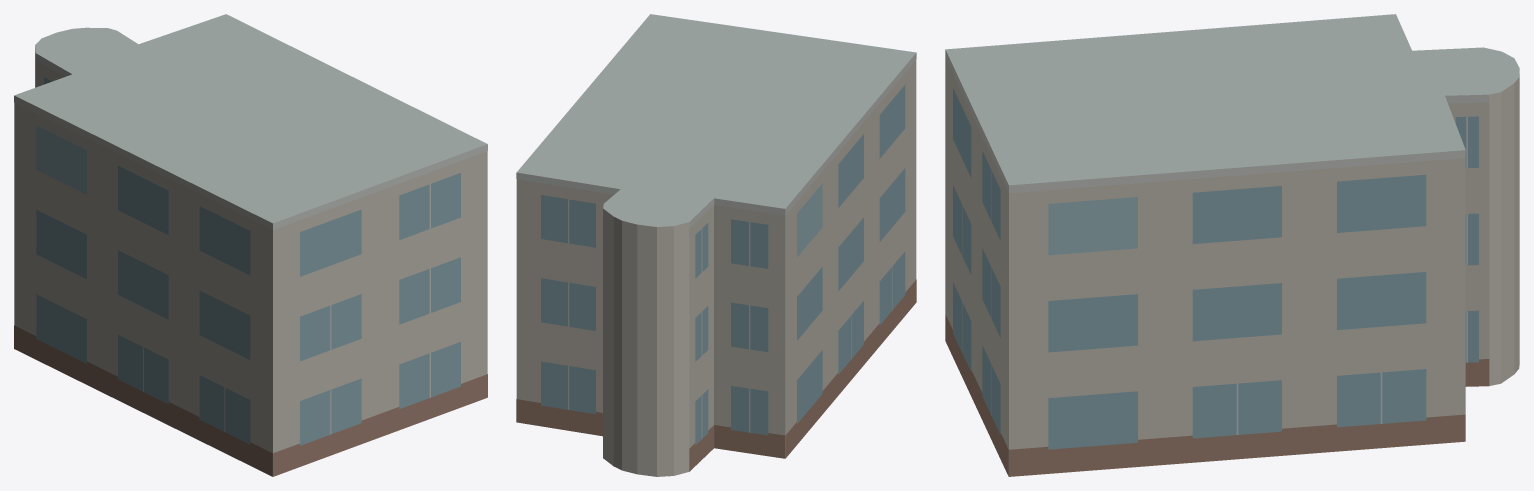
File: survey-upis-32617174.glb
The picture shows the model from 3 angles, left to right: view 1: azimuth 30°, elevation 25°; view 2: azimuth 150°, elevation 25°; view 3: azimuth 270°, elevation 25°; orthographic projection. The views are drawn at different scales.
Parts seen in each view (by area): view 1: survey-upis-32617174.tmp; view 2: survey-upis-32617174.tmp; view 3: survey-upis-32617174.tmp.
Part boxes in pixels (x1,y1,x2,y2): survey-upis-32617174.tmp: [14, 14, 487, 476]; survey-upis-32617174.tmp: [516, 14, 916, 476]; survey-upis-32617174.tmp: [945, 14, 1519, 476].
Bounding box in the file's own units: 11.55 × 9.15 × 16.34.
